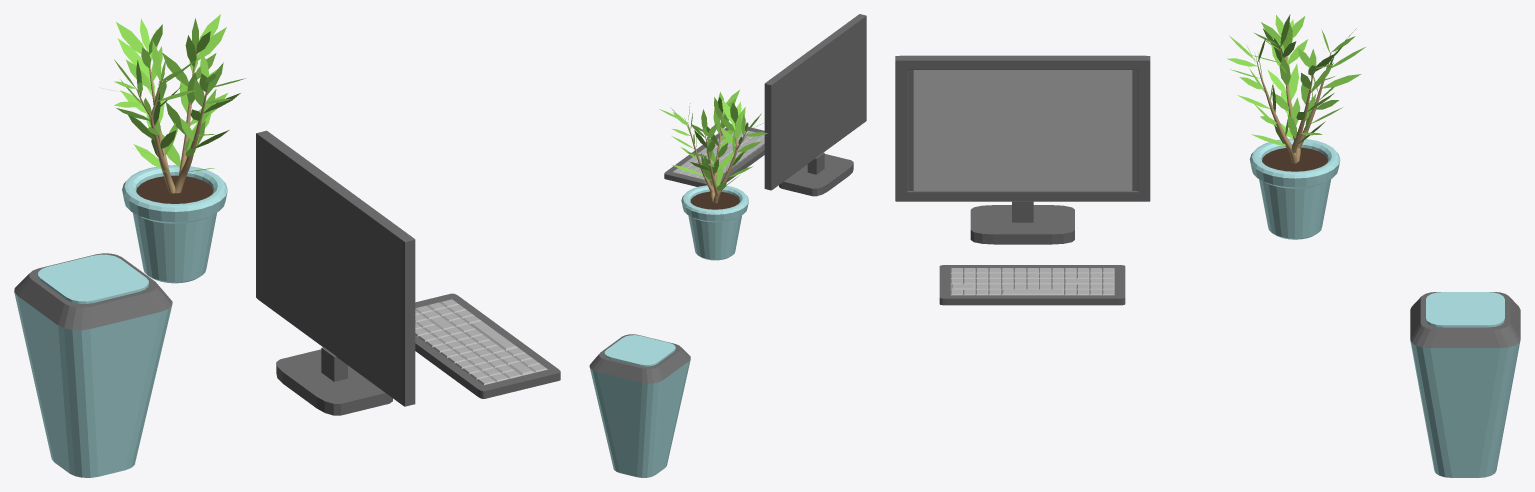
3 views of the same model, side by side, from view 1: azimuth 30°, elevation 25°; view 2: azimuth 150°, elevation 25°; view 3: azimuth 270°, elevation 25° (orthographic). The views are drawn at different scales.
Parts seen in each view (by area): view 1: PC, Trash bin, Plant, Keyboard; view 2: PC, Trash bin, Plant, Keyboard; view 3: PC, Trash bin, Plant, Keyboard.
Boxes of the visible parts, left/top/right/bottom form: PC: left=256, top=130, right=415, bottom=415; Trash bin: left=14, top=253, right=172, bottom=477; Plant: left=101, top=14, right=245, bottom=283; Keyboard: left=415, top=293, right=560, bottom=398; PC: left=764, top=14, right=866, bottom=196; Trash bin: left=589, top=334, right=690, bottom=477; Plant: left=659, top=90, right=767, bottom=260; Keyboard: left=664, top=127, right=764, bottom=186; PC: left=895, top=55, right=1150, bottom=244; Trash bin: left=1410, top=292, right=1520, bottom=477; Plant: left=1227, top=14, right=1365, bottom=239; Keyboard: left=939, top=265, right=1125, bottom=305.
Size of the model in its own units: 1.32 by 2.44 by 3.19.
